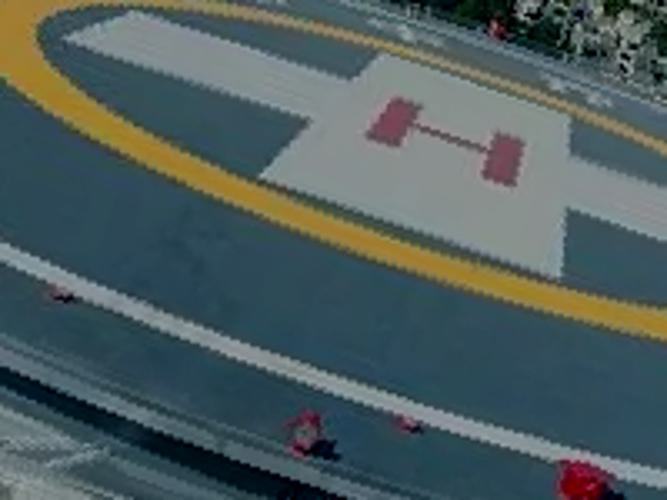Apron: (1, 1, 655, 331)
